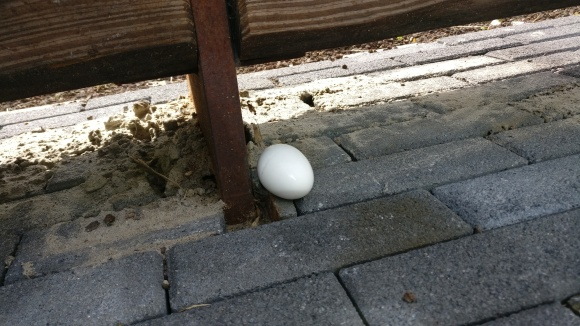egg: (256, 142, 315, 201)
